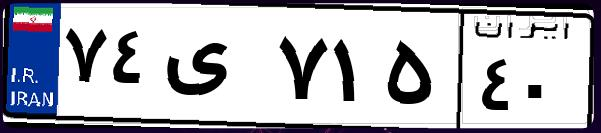0: (525, 38, 570, 115)
1: (330, 28, 385, 110)
4: (475, 38, 525, 113), (110, 28, 158, 98)
5: (385, 28, 445, 110)
7: (270, 28, 330, 110), (57, 26, 110, 100)
ی: (158, 20, 270, 120)
